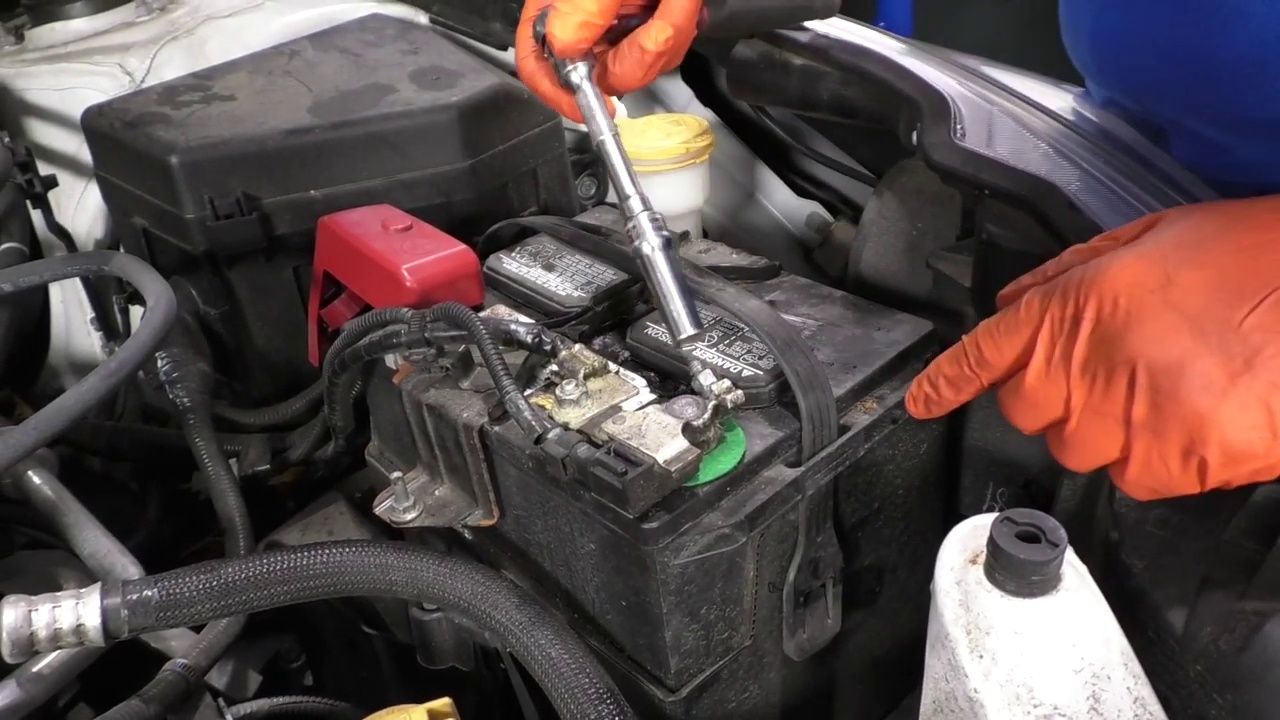battery: (317, 209, 960, 518)
neg_connected: (600, 374, 763, 513)
pos_connected: (297, 175, 495, 377)
